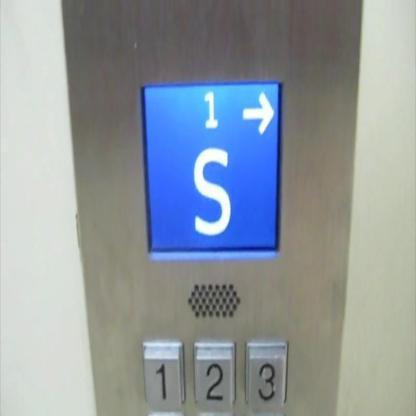1: (141, 336, 186, 411)
2: (192, 337, 238, 412)
3: (244, 336, 289, 413)
led: (140, 78, 283, 258)
